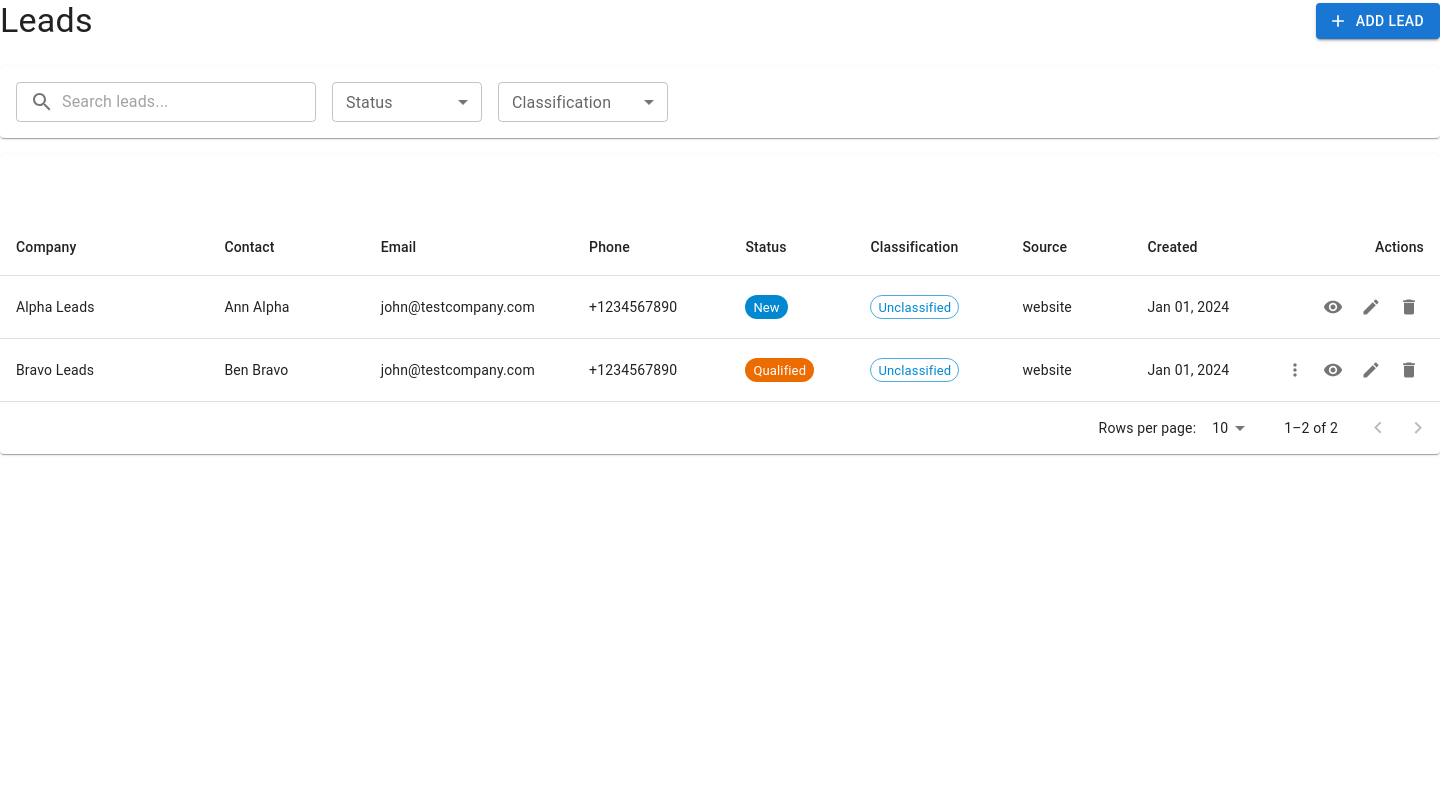
Test: LeadList conversion settings › re-reads the settings when the server refuses the lead's status
Click the button named "More actions for Bravo Leads". click: click(1295, 370)
box: [1280,355,1310,385]
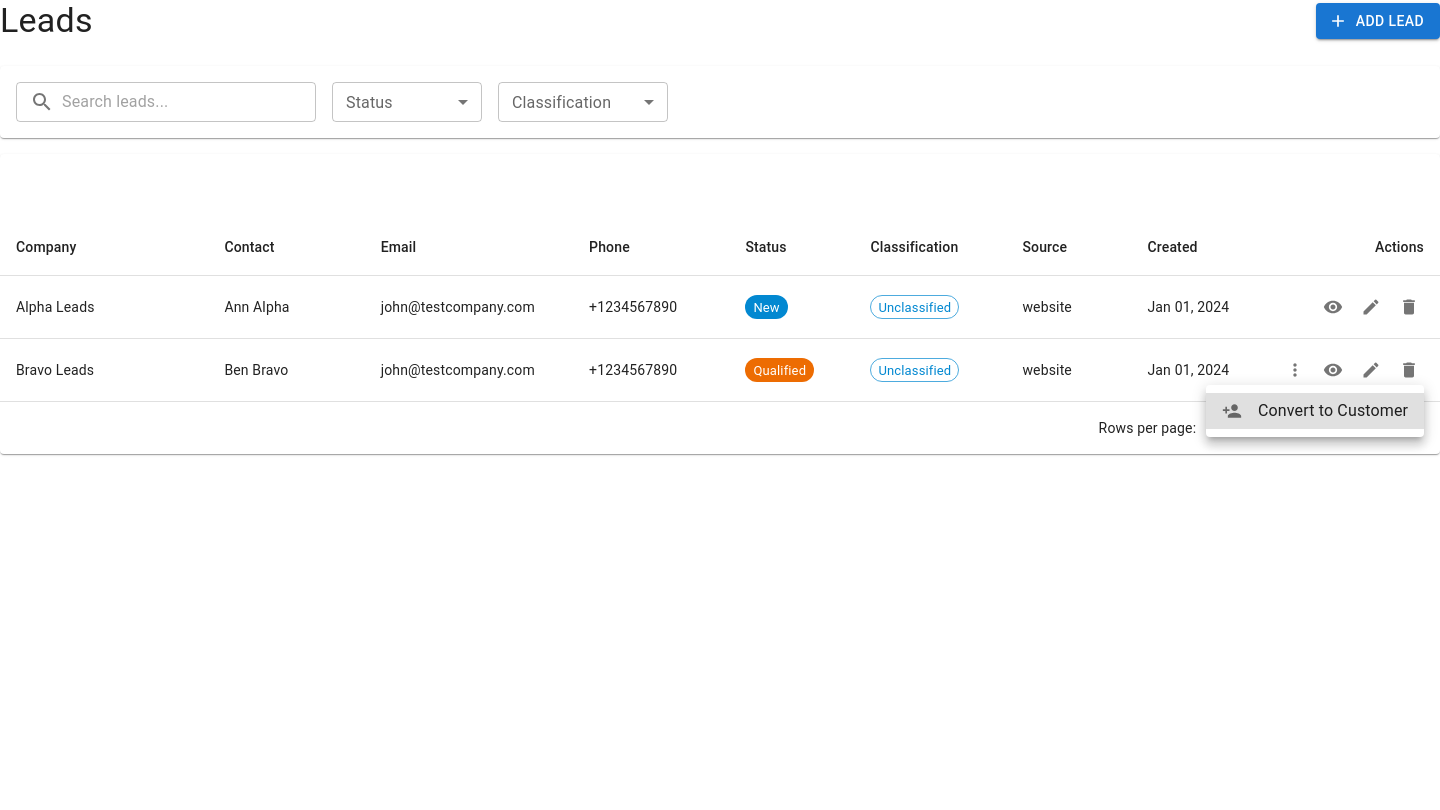
Click the menu item "Convert to Customer". click: click(1315, 411)
box: [1206,393,1424,429]
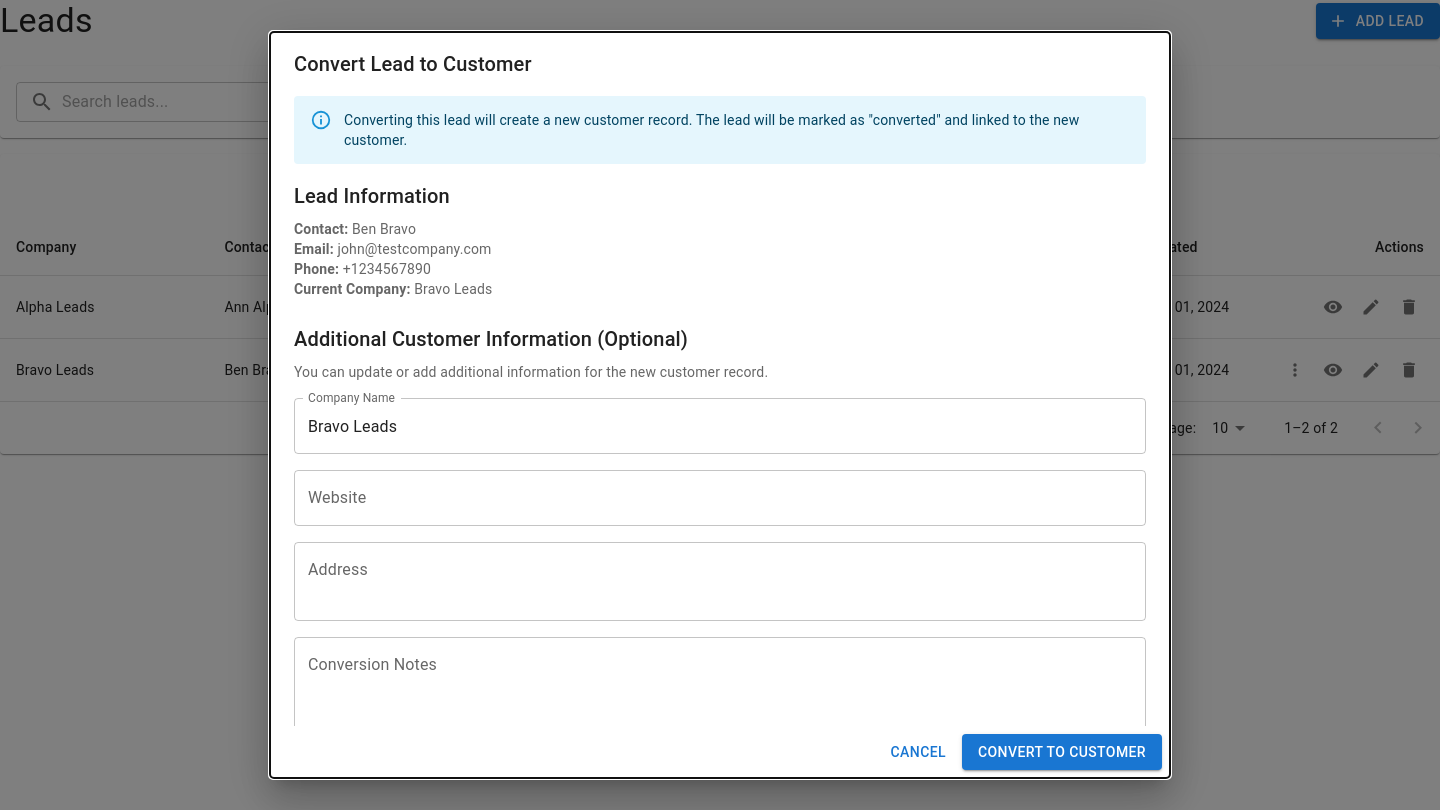
Click the button "Convert to Customer". click: click(1062, 752)
box: [962,734,1162,770]
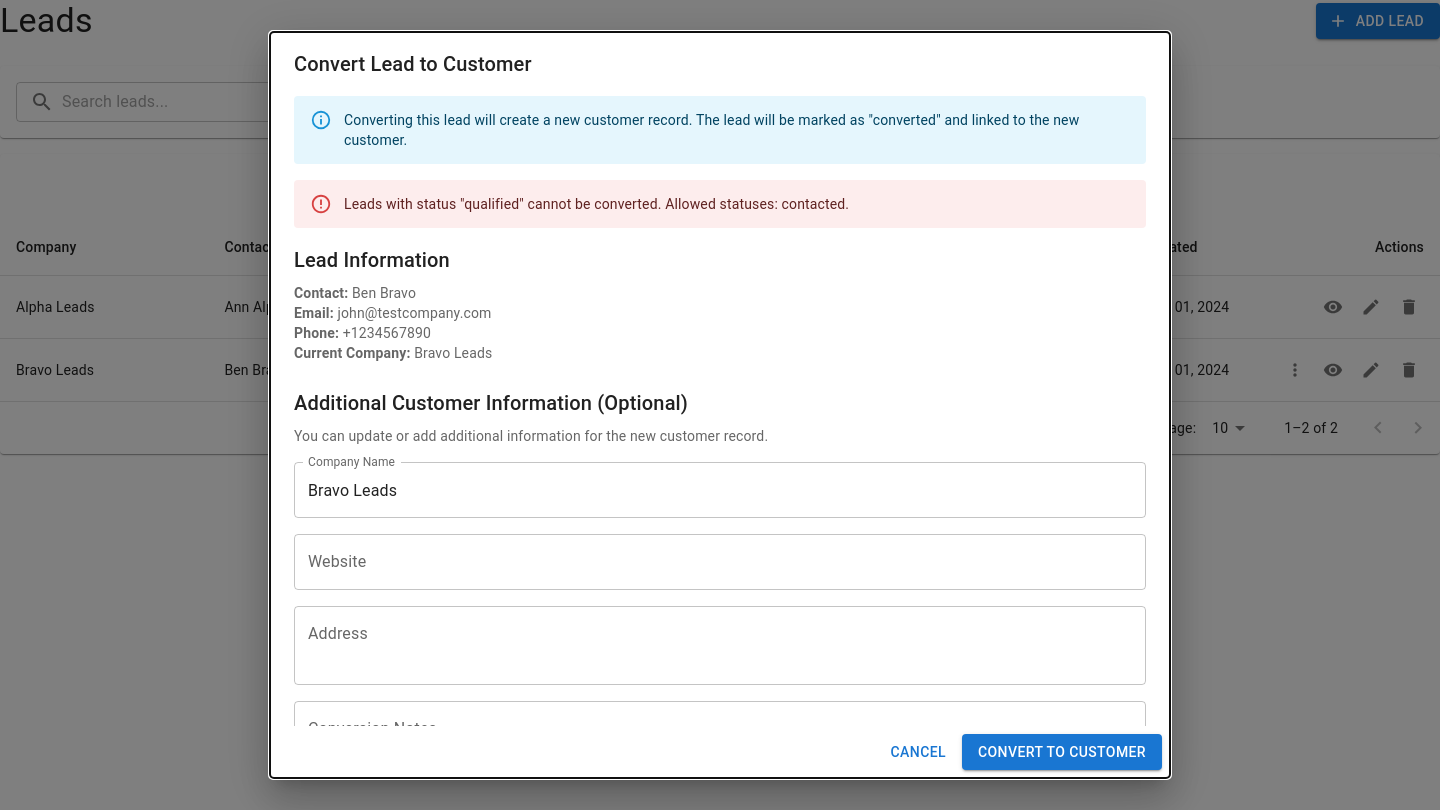
Result: the message with test id "convert-lead-error" shows "Leads with status \"qualified\" cannot be converted." at [344,196,849,212]
